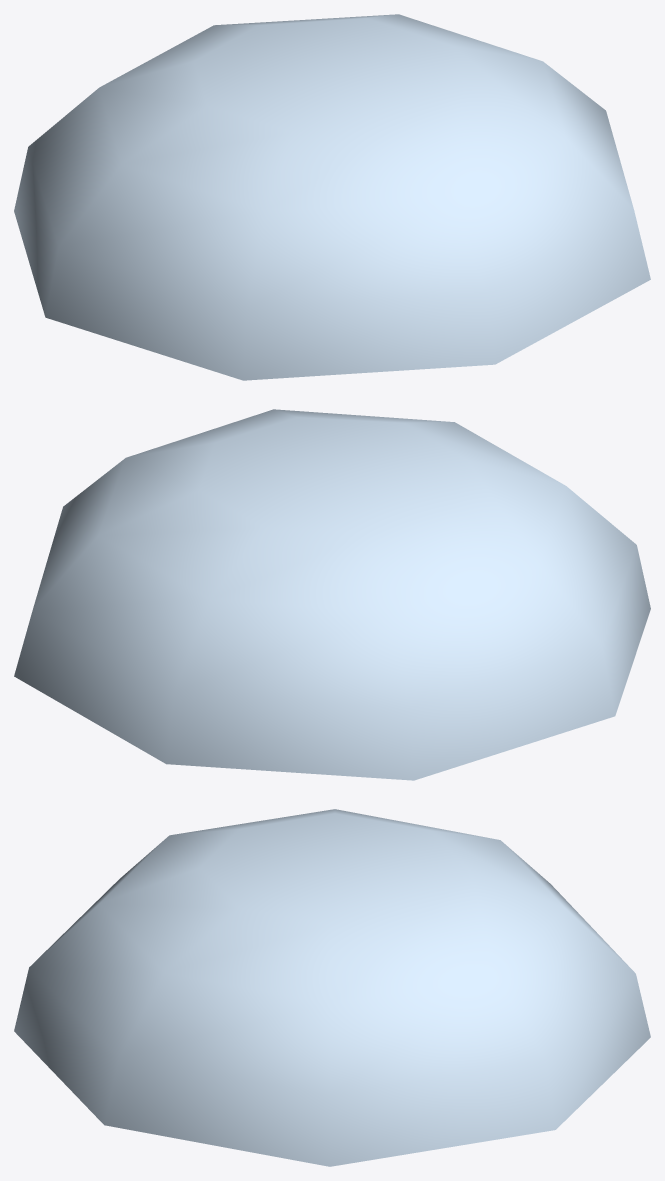
File: snow3.fbx
The picture shows the model from 3 angles, top to bottom: view 1: azimuth 30°, elevation 25°; view 2: azimuth 150°, elevation 25°; view 3: azimuth 270°, elevation 25°; orthographic projection. The views are drawn at different scales.
Visible parts, largest first — view 1: snow3; view 2: snow3; view 3: snow3.
Part boxes in pixels (x1,y1,x2,y2): snow3: (14, 14, 650, 380); snow3: (14, 409, 650, 780); snow3: (14, 809, 650, 1166).
Size of the model in its own units: 33.17 by 9.67 by 33.17.
